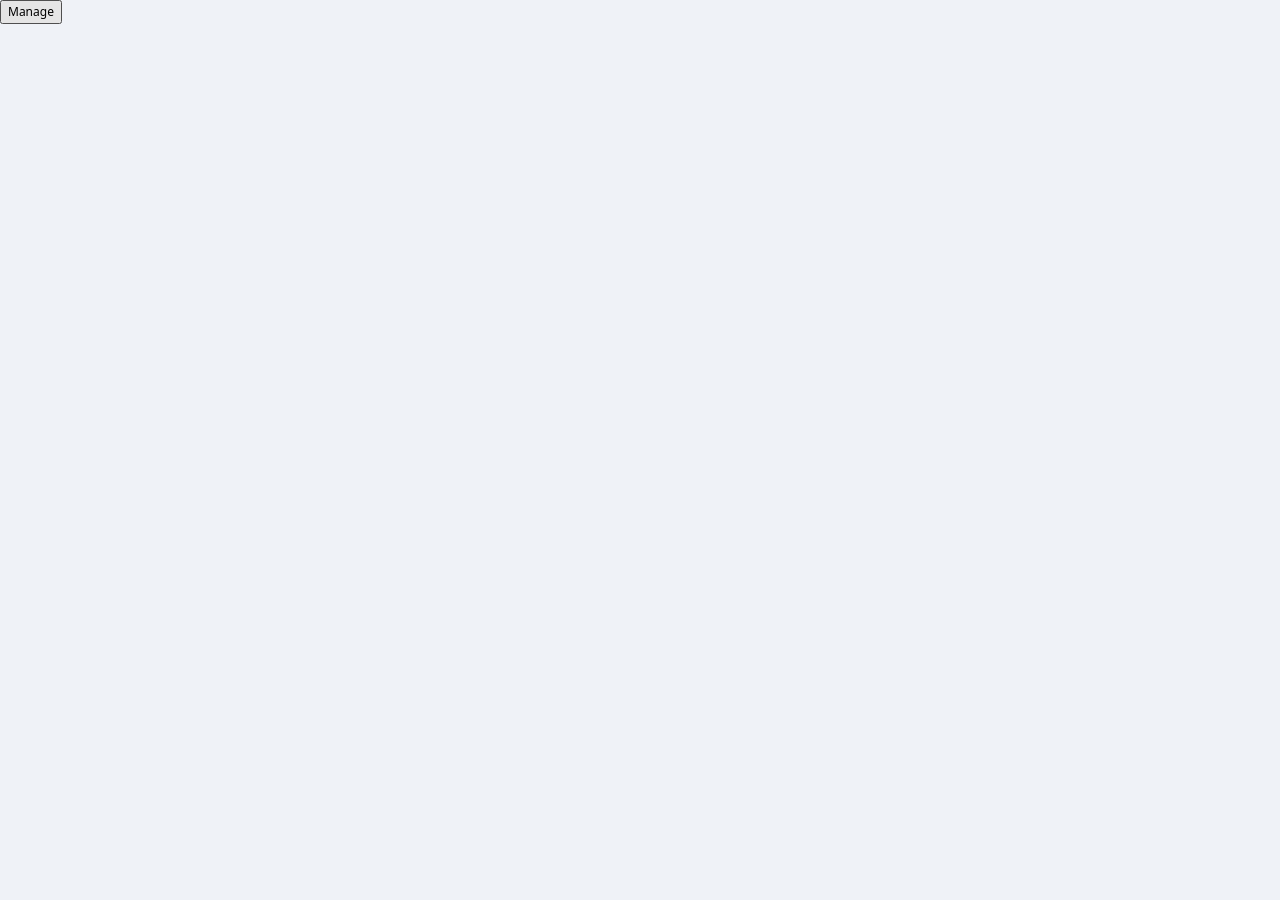
Test case: offers only export controls to a member with download permission
Click the button with aria-label "Manage Sales.sqlite3". click: (31, 12)
box: [0,0,62,24]
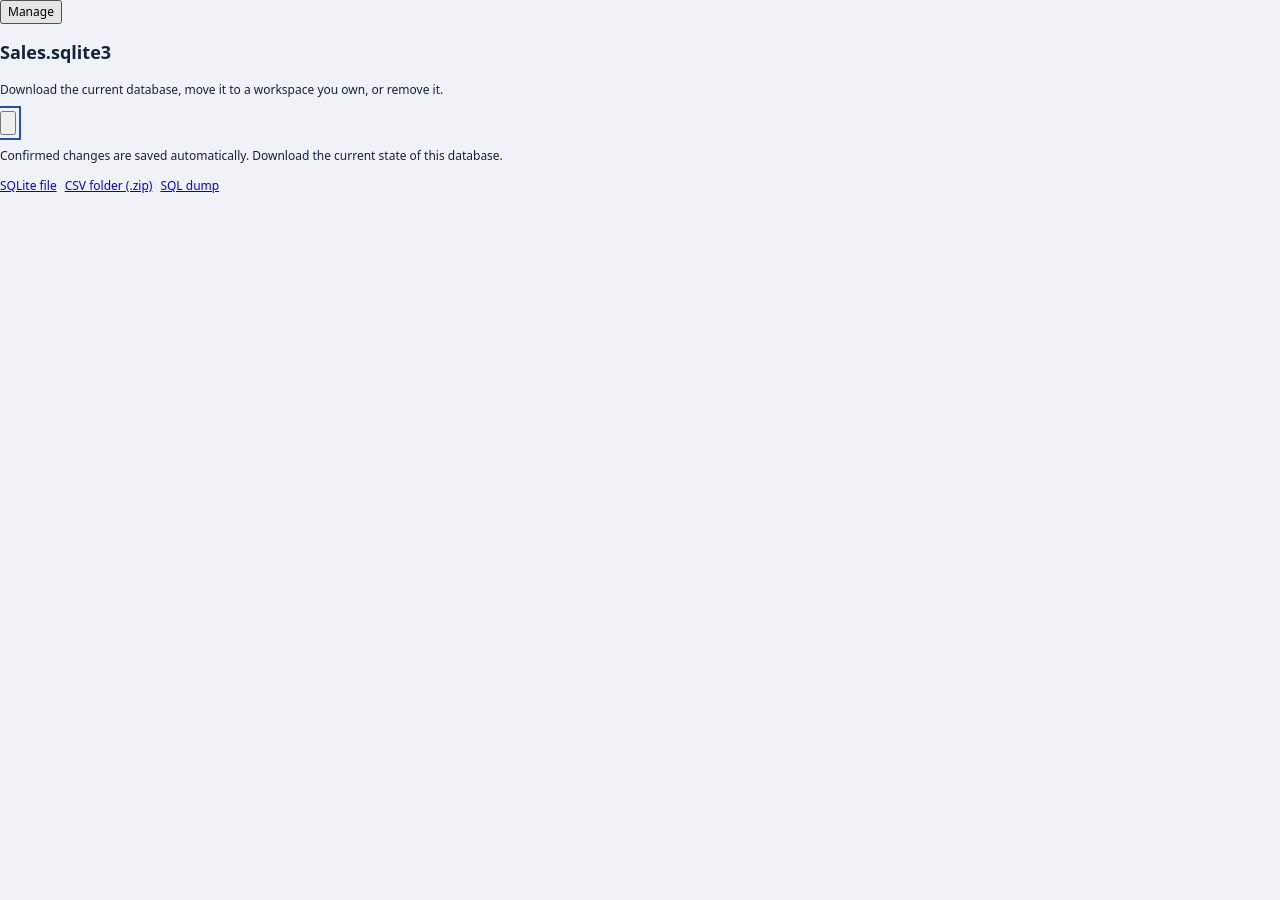
Expected: the link "SQLite file" is shown, [0,177,57,195]
